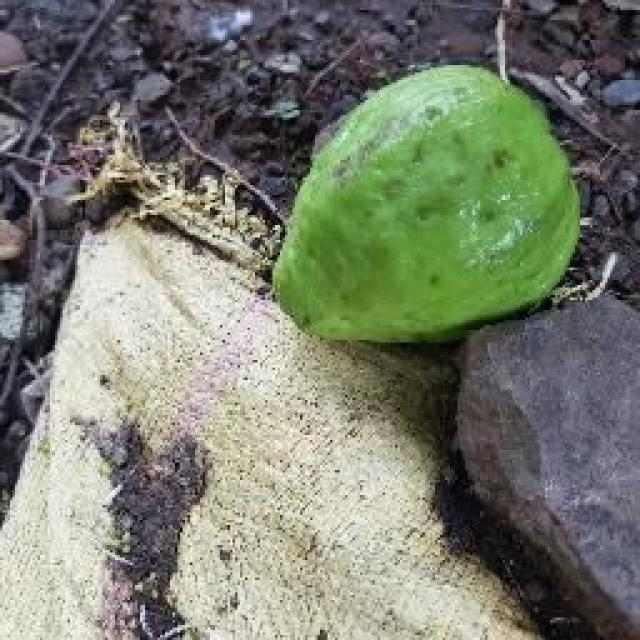Good_Guava: (272, 65, 582, 345)
